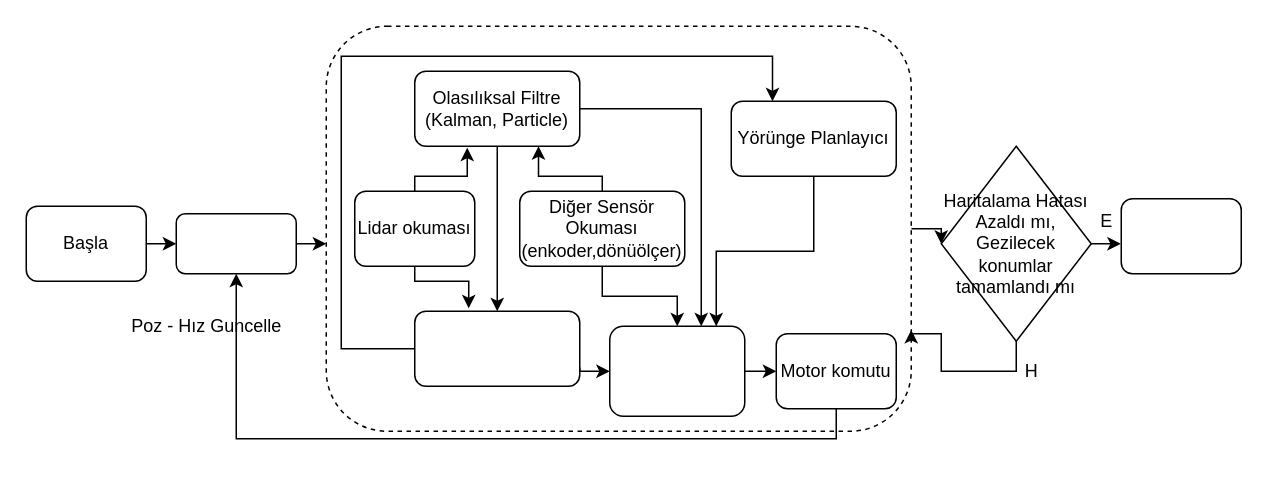
Image size: 1268x477. Some labels were removed from this diagram. Here are the shapes that lost their labels. From the top down, the centre of each, then its label:
At point (235, 243): "Simülasyon ya da gerçek donanım".
At point (1180, 235): "Bitir".
At point (496, 348): "Haritalama ve konumlama".
At point (676, 370): "Hareket Kontrolcüsü (comuted torque, pid vb.)".
